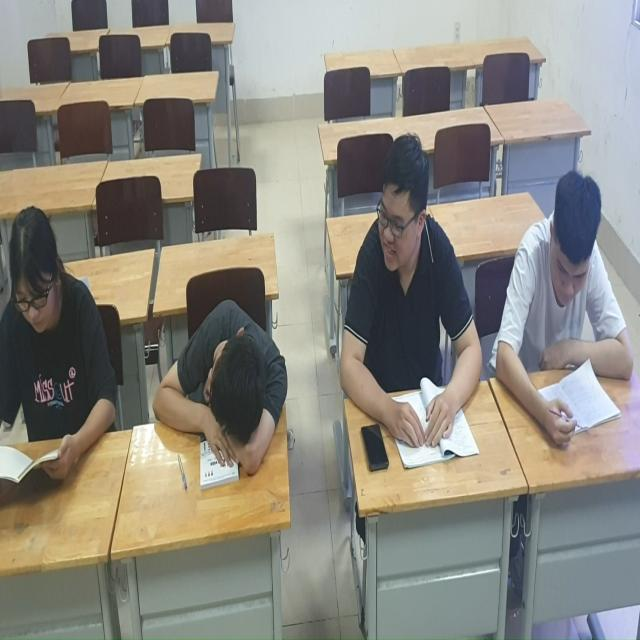read: (337, 138, 485, 482), (486, 156, 635, 438), (1, 204, 128, 502)
sleep: (137, 250, 287, 480)
